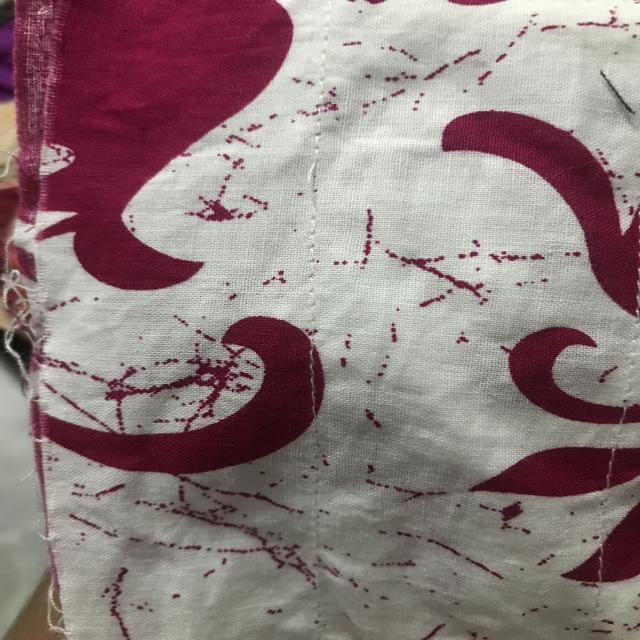good: (294, 344, 329, 413)
skip: (293, 157, 348, 212)
